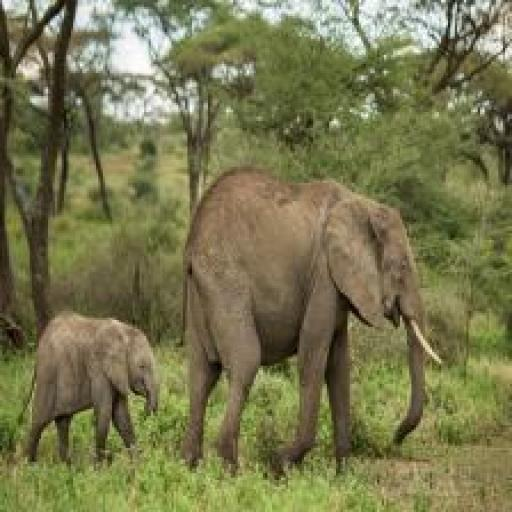Elephant: (160, 108, 467, 497), (5, 297, 200, 512)
